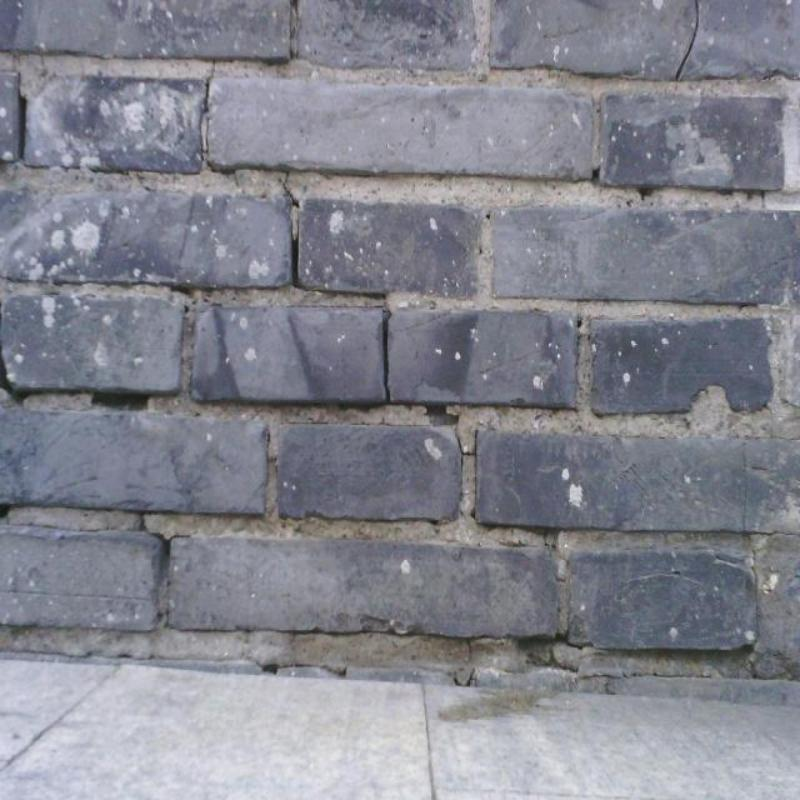pothole: (0, 345, 152, 410), (289, 236, 389, 302), (589, 671, 714, 695), (139, 510, 192, 556), (456, 429, 480, 519), (674, 0, 700, 81), (199, 61, 216, 172), (261, 662, 348, 676), (519, 631, 582, 650), (529, 649, 578, 671), (281, 168, 301, 212), (18, 72, 28, 159), (382, 307, 391, 403), (426, 403, 460, 425), (538, 526, 556, 549), (451, 668, 475, 685), (0, 501, 16, 520), (744, 531, 799, 536), (169, 286, 191, 295), (638, 186, 652, 199), (466, 639, 471, 660), (592, 169, 599, 179)
